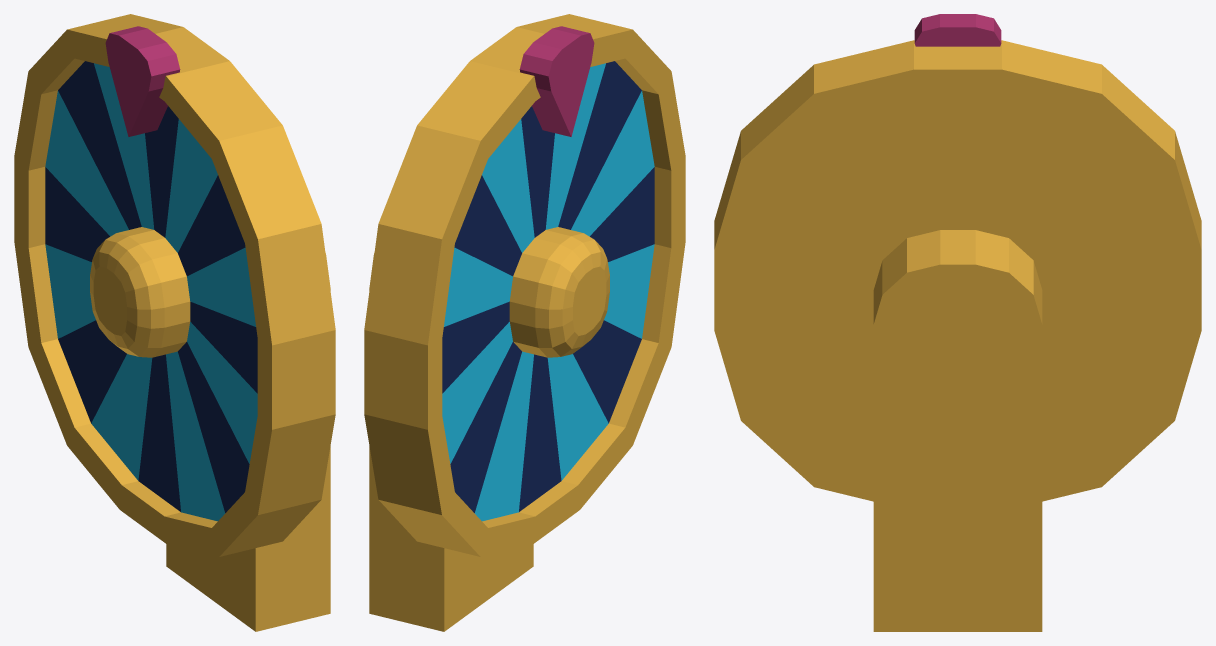
Rendered from don't use.fbx.
The picture shows the model from 3 angles, left to right: view 1: azimuth 30°, elevation 25°; view 2: azimuth 150°, elevation 25°; view 3: azimuth 270°, elevation 25°; orthographic projection. The views are drawn at different scales.
Visible parts, largest first — view 1: Cube.013, Cube.012, Cube.014; view 2: Cube.013, Cube.012, Cube.014; view 3: Cube.013, Cube.012, Cube.014.
Boxes of the visible parts, x1,y1,x2,y2 form: Cube.013: (14,14,335,556); Cube.012: (166,252,330,631); Cube.014: (105,26,180,136); Cube.013: (364,14,685,556); Cube.012: (369,252,533,631); Cube.014: (519,26,594,136); Cube.013: (714,40,1201,501); Cube.012: (873,230,1042,631); Cube.014: (914,14,1001,46).
Bounding box in the file's own units: 454 × 1425 × 1154.
